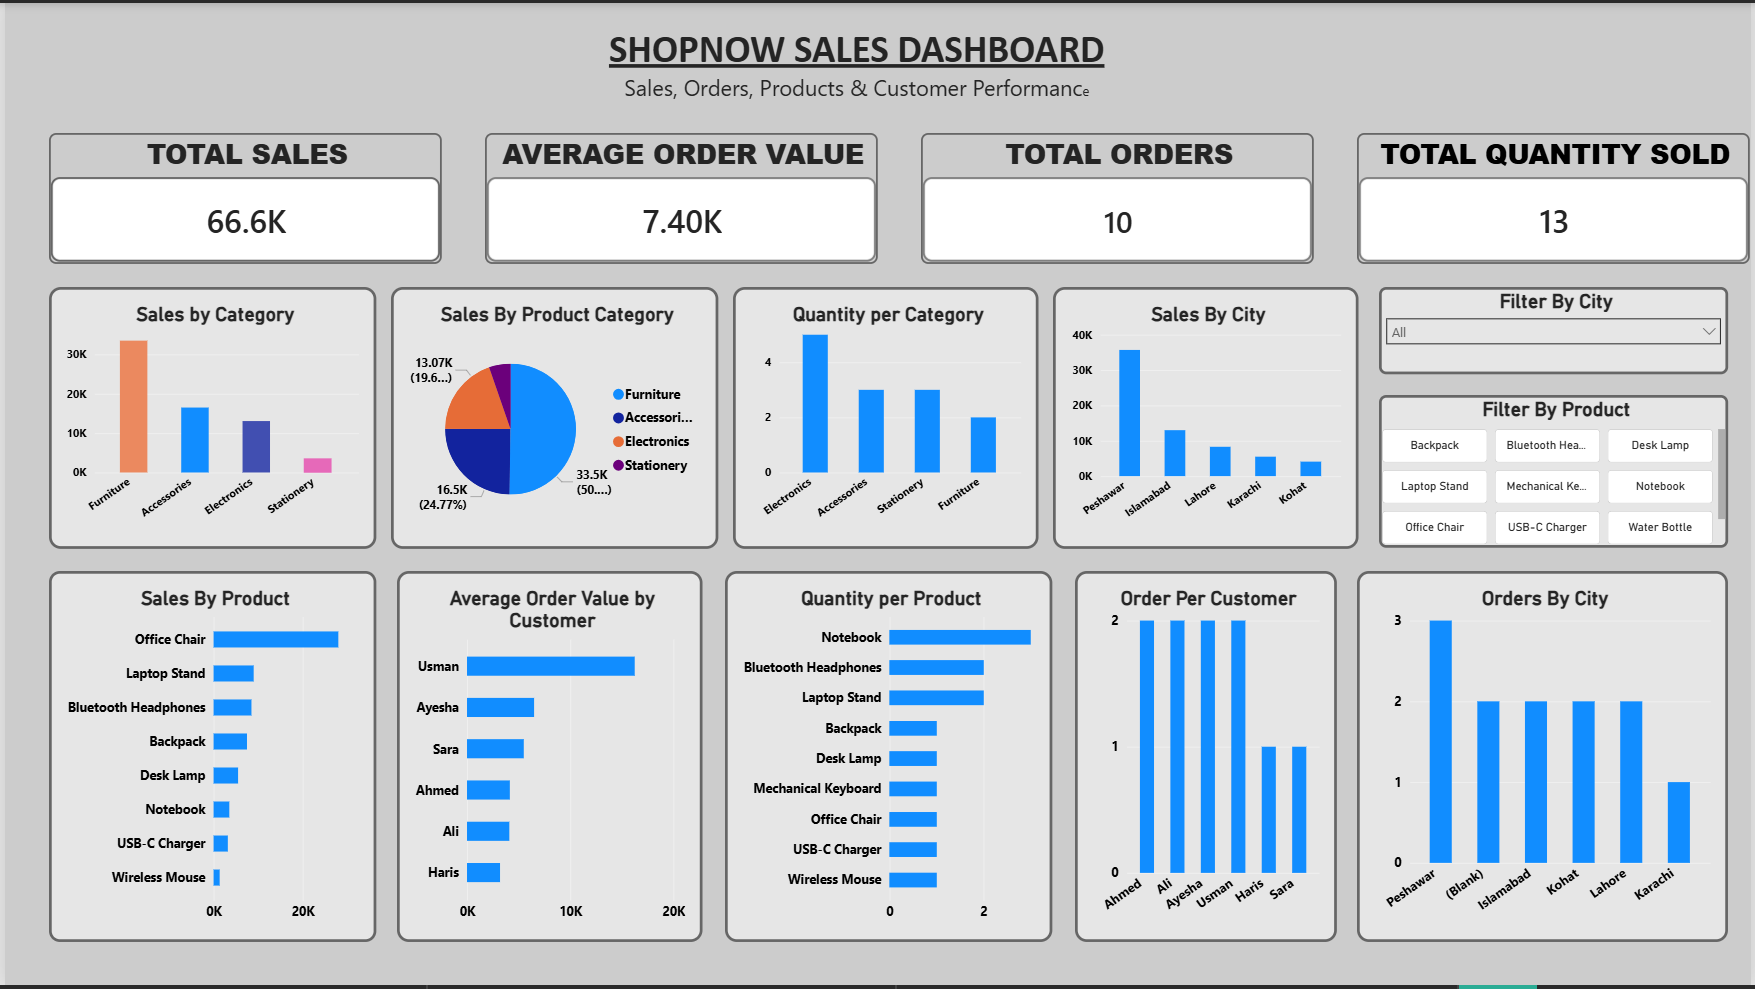

The dashboard page shown, as its layout file describes it:
{"tool":"powerbi","page":{"name":"Page 1 Executive Sales Overview","canvas":[1920,1080],"ordinal":0},"visuals":[{"type":"cardVisual","title":"TOTAL SALES","fields":{"Data":["Sum(public orders.amount)"]},"box":[48,144,432,144],"z":0},{"type":"cardVisual","title":"TOTAL ORDERS","fields":{"Data":["CountNonNull(public orders.order_id)"]},"box":[1008,144,432,144],"z":1000},{"type":"cardVisual","title":"AVERAGE ORDER VALUE","fields":{"Data":["Avg(public orders.amount)"]},"box":[528,144,432,144],"z":2000},{"type":"clusteredColumnChart","title":"Sales by Category","fields":{"Category":["public products.category"],"Y":["public customers.Category Sales"]},"box":[48,312,360,288],"z":3000},{"type":"clusteredBarChart","title":"Average Order Value by Customer","fields":{"Category":["public customers.customer_name"],"Y":["Avg(public orders.amount)"]},"box":[432,624,336,408],"z":4000},{"type":"clusteredBarChart","title":"Sales By Product","fields":{"Category":["public products.product_name"],"Y":["public customers.Category Sales"]},"box":[48,624,360,408],"z":5000},{"type":"clusteredColumnChart","title":"Sales By City","fields":{"Category":["public customers.city"],"Y":["Sum(public orders.amount)"]},"box":[1152,312,336,288],"z":6000},{"type":"cardVisual","title":"TOTAL QUANTITY SOLD","fields":{"Data":["Sum(public order_items.quantity)"]},"box":[1488,144,432,144],"z":7000},{"type":"clusteredBarChart","title":"Quantity per Product","fields":{"Category":["public products.product_name"],"Y":["Sum(public order_items.quantity)"]},"box":[792,624,360,408],"z":8000},{"type":"clusteredColumnChart","title":"Orders By City","fields":{"Category":["public customers.city"],"Y":["CountNonNull(public order_items.order_id)"]},"box":[1488,624,408,408],"z":9000},{"type":"clusteredColumnChart","title":"Quantity per Category","fields":{"Category":["public products.category"],"Y":["Sum(public order_items.quantity)"]},"box":[800,312,336,288],"z":10000},{"type":"pieChart","title":"Sales By  Product Category","fields":{"Category":["public products.category"],"Y":["public customers.Category Sales"]},"box":[424,312,360,288],"z":11000},{"type":"textbox","box":[624,24,624,120],"z":12000},{"type":"clusteredColumnChart","title":"Order Per Customer","fields":{"Category":["public customers.customer_name"],"Y":["CountNonNull(public order_items.order_id)"]},"box":[1176,624,288,408],"z":13000},{"type":"slicer","title":"Filter By City","fields":{"Values":["public customers.city"]},"box":[1512,312,384,96],"z":14000},{"type":"advancedSlicerVisual","title":"Filter By Product","fields":{"Values":["public products.product_name"]},"box":[1512,432,384,168],"z":15000}]}

Visuals, with their boxes in screenshot pixels (x1, y1, x2, y2), scaled from the page's 1920x1080 canvas onto the 1755x989 screenshot:
"TOTAL SALES" cardVisual: crop(44, 132, 439, 264)
"TOTAL ORDERS" cardVisual: crop(921, 132, 1316, 264)
"AVERAGE ORDER VALUE" cardVisual: crop(483, 132, 878, 264)
"Sales by Category" clusteredColumnChart: crop(44, 286, 373, 549)
"Average Order Value by Customer" clusteredBarChart: crop(395, 571, 702, 945)
"Sales By Product" clusteredBarChart: crop(44, 571, 373, 945)
"Sales By City" clusteredColumnChart: crop(1053, 286, 1360, 549)
"TOTAL QUANTITY SOLD" cardVisual: crop(1360, 132, 1754, 264)
"Quantity per Product" clusteredBarChart: crop(724, 571, 1053, 945)
"Orders By City" clusteredColumnChart: crop(1360, 571, 1733, 945)
"Quantity per Category" clusteredColumnChart: crop(731, 286, 1038, 549)
"Sales By  Product Category" pieChart: crop(388, 286, 717, 549)
textbox: crop(570, 22, 1141, 132)
"Order Per Customer" clusteredColumnChart: crop(1075, 571, 1338, 945)
"Filter By City" slicer: crop(1382, 286, 1733, 374)
"Filter By Product" advancedSlicerVisual: crop(1382, 396, 1733, 549)
